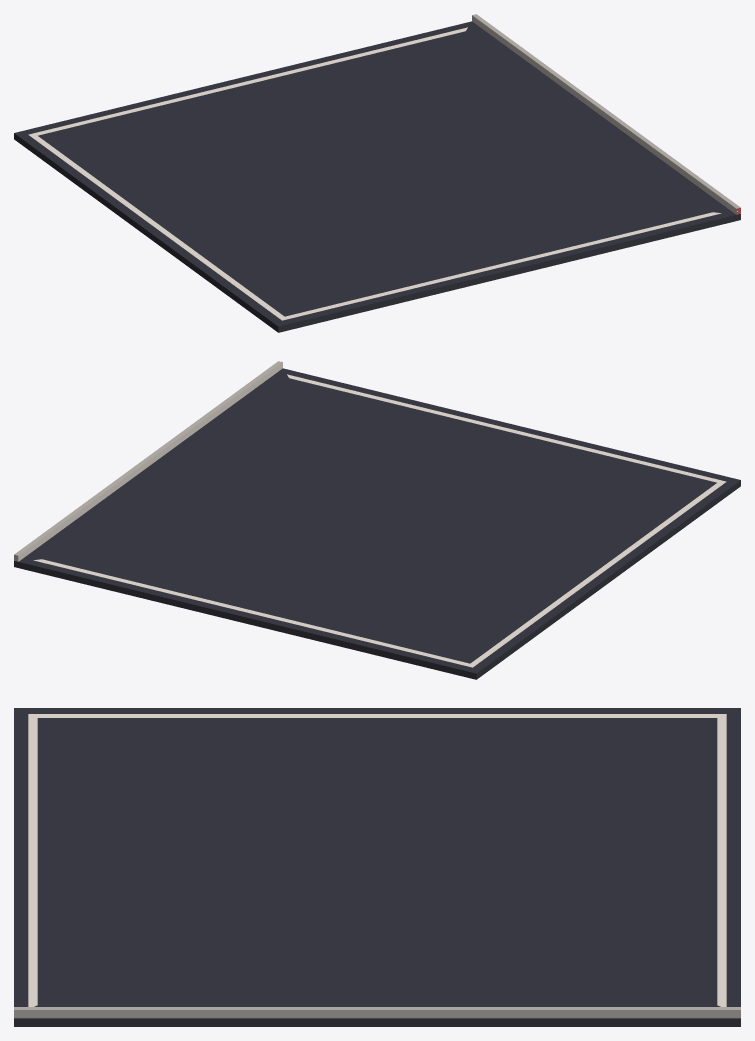
Rendered from intersection_t.fbx.
3 renders of one model, top to bottom at view 1: azimuth 30°, elevation 25°; view 2: azimuth 150°, elevation 25°; view 3: azimuth 270°, elevation 25°, orthographic. The views are drawn at different scales.
Parts seen in each view (by area): view 1: Cube.006; view 2: Cube.006; view 3: Cube.006.
Boxes of the visible parts, left/top/right/bottom form: Cube.006: left=14, top=14, right=740, bottom=332; Cube.006: left=14, top=361, right=740, bottom=679; Cube.006: left=14, top=708, right=740, bottom=1026.
Size of the model in its own units: 1547 by 39.57 by 1532.
